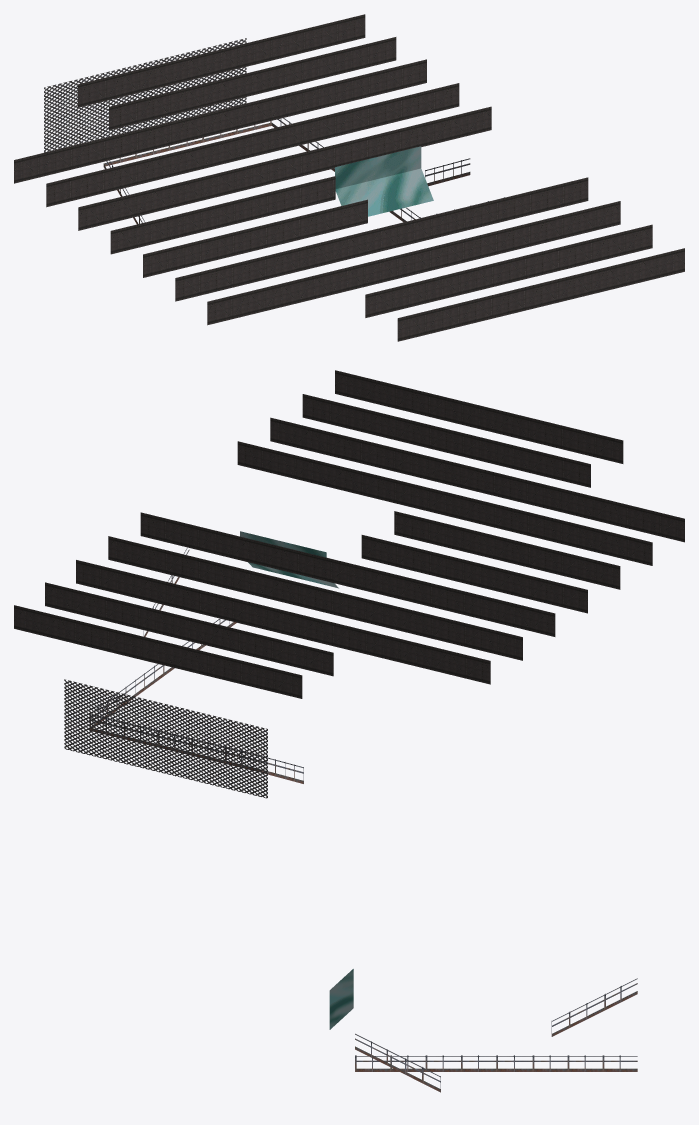
Rendered from a51_ugstore1a.obj.
The picture shows the model from 3 angles, top to bottom: view 1: azimuth 30°, elevation 25°; view 2: azimuth 150°, elevation 25°; view 3: azimuth 270°, elevation 25°; orthographic projection. The views are drawn at different scales.
Visible parts, largest first — view 1: a51_ugstore1a; view 2: a51_ugstore1a; view 3: a51_ugstore1a.
Boxes of the visible parts, x1,y1,x2,y2 form: a51_ugstore1a: (14, 14, 684, 341); a51_ugstore1a: (14, 370, 684, 798); a51_ugstore1a: (329, 969, 637, 1092).
Bounding box in the file's own units: 24.96 × 8.27 × 37.03.
4 materials, 4 textured.
